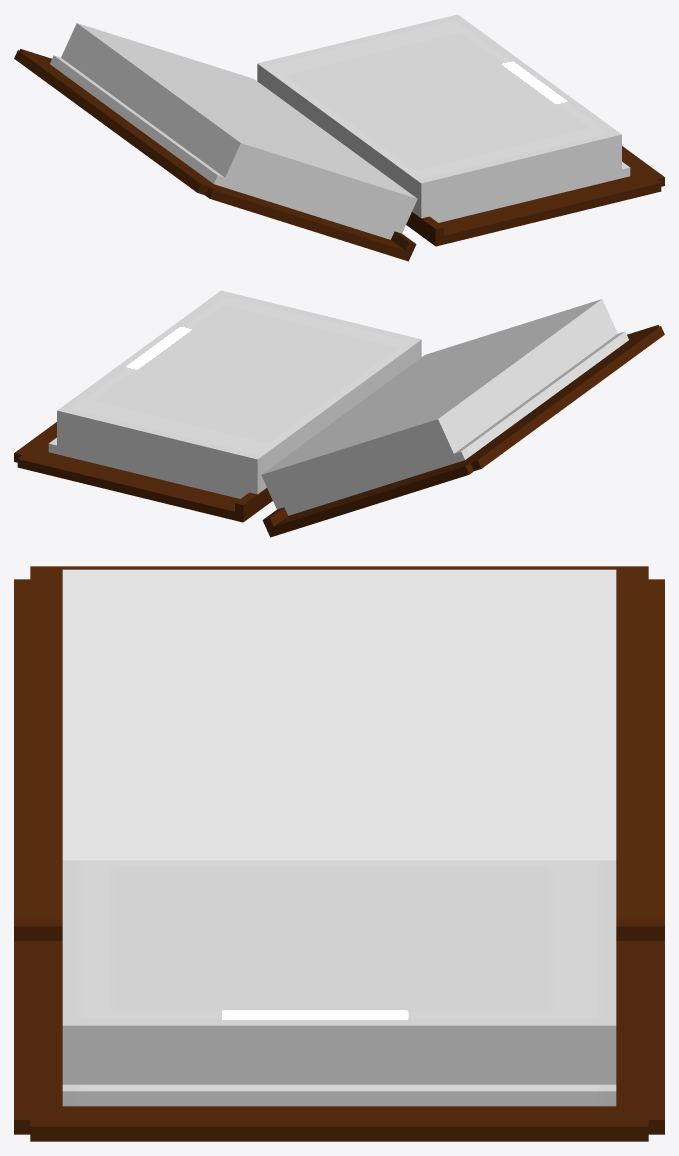
File: book_open.dae
3 renders of one model, top to bottom at view 1: azimuth 30°, elevation 25°; view 2: azimuth 150°, elevation 25°; view 3: azimuth 270°, elevation 25°, orthographic. The views are drawn at different scales.
Visible parts, largest first — view 1: pl0 (×2); view 2: pl0 (×2); view 3: pl0 (×2).
Boxes of the visible parts, box(x1,y1,x2,y2) form: pl0 (×2): box(14, 14, 664, 261); pl0 (×2): box(14, 290, 664, 537); pl0 (×2): box(14, 566, 664, 1141).
Bounding box in the file's own units: 55.94 × 40 × 16.61.
